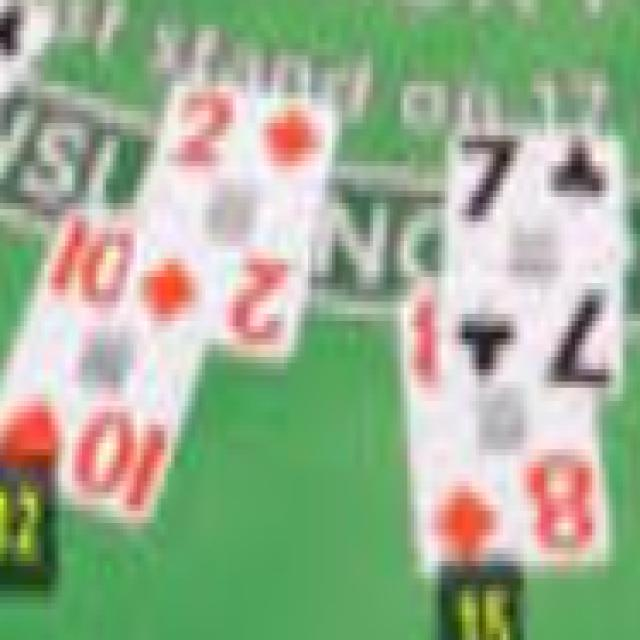Card-10: (0, 210, 202, 518)
Card-2: (133, 87, 335, 351)
Card-7: (446, 127, 625, 399)
Card-8: (405, 281, 612, 572)
